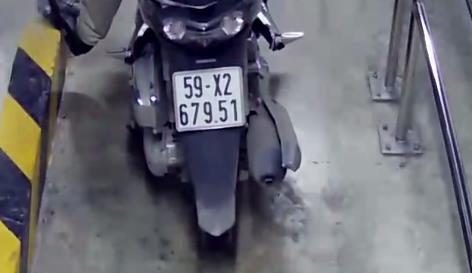lisence: (172, 66, 247, 132)
